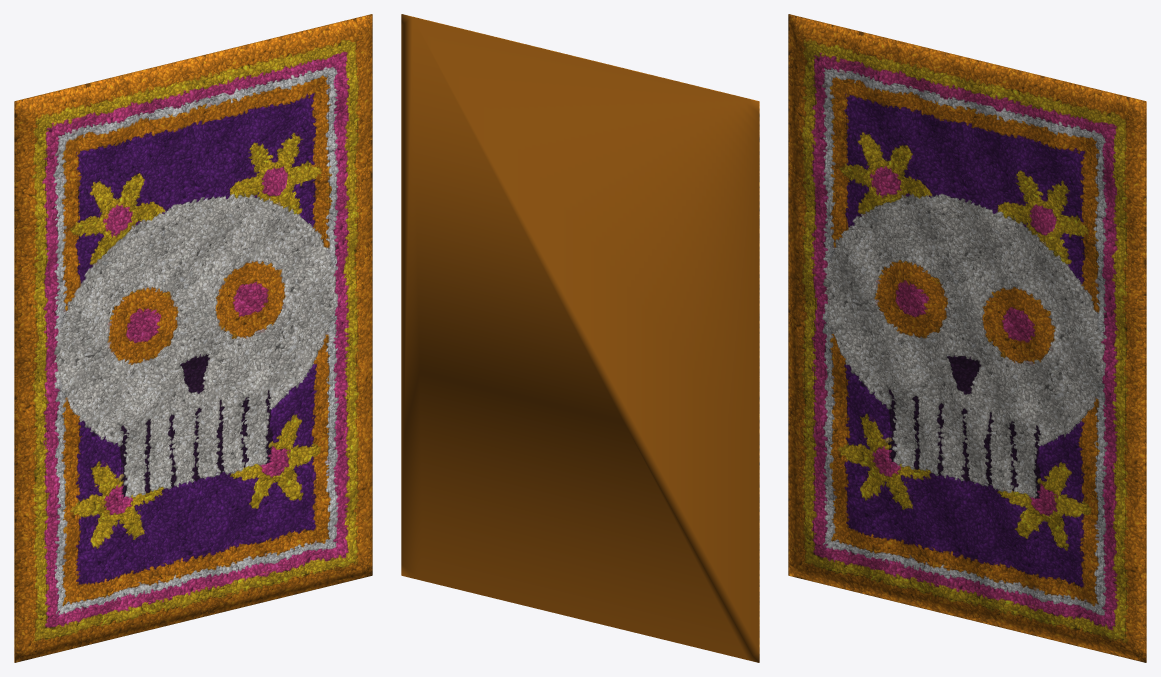
The model's file is tapete_flores.obj.
The picture shows the model from 3 angles, left to right: view 1: azimuth 30°, elevation 25°; view 2: azimuth 150°, elevation 25°; view 3: azimuth 330°, elevation 25°; orthographic projection.
Visible parts, largest first — view 1: Tapete; view 2: Tapete; view 3: Tapete.
Boxes of the visible parts, box(x1,y1,x2,y2) form: Tapete: box(14, 14, 372, 662); Tapete: box(401, 14, 759, 662); Tapete: box(788, 14, 1146, 662).
Size of the model in its own units: 2.4 by 3.6 by 0.0597.
Materials: 1 (1 with a texture image).
